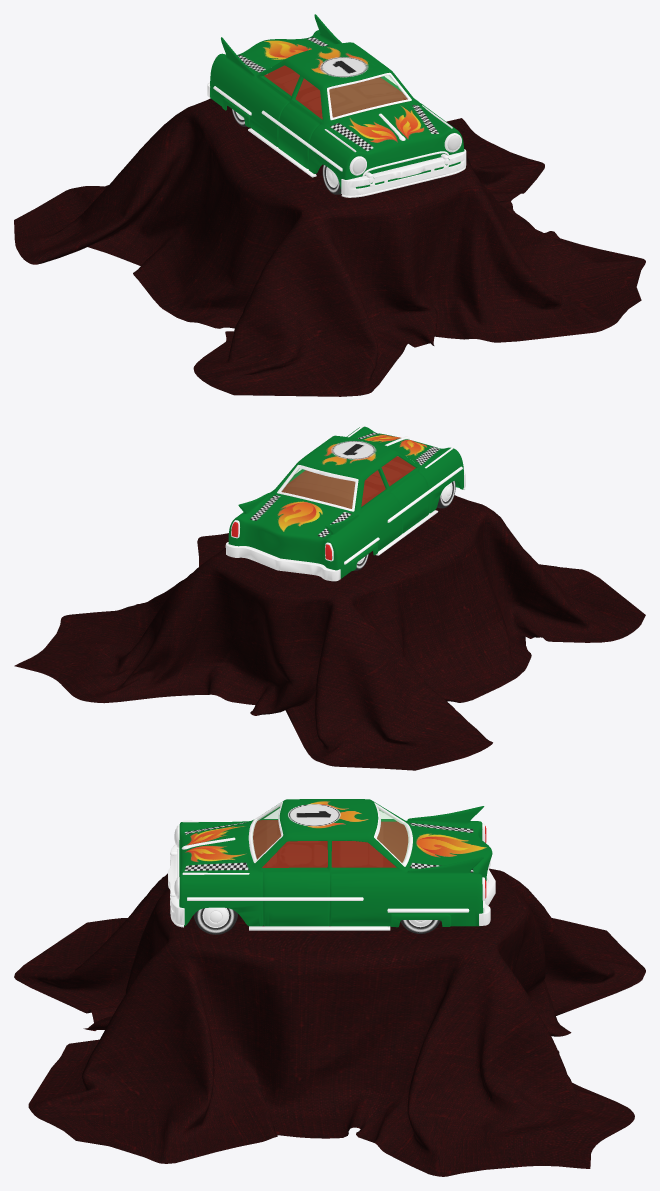
The model's file is ToyCar.glb.
The picture shows the model from 3 angles, top to bottom: view 1: azimuth 30°, elevation 25°; view 2: azimuth 150°, elevation 25°; view 3: azimuth 270°, elevation 25°; orthographic projection. The views are drawn at different scales.
Parts seen in each view (by area): view 1: Fabric, ToyCar, Glass; view 2: Fabric, ToyCar, Glass; view 3: Fabric, ToyCar, Glass.
Part boxes in pixels (box(x1,y1,x2,y2)): Fabric: box(14, 98, 645, 396); ToyCar: box(207, 14, 466, 197); Glass: box(329, 75, 407, 116); Fabric: box(14, 495, 645, 770); ToyCar: box(225, 425, 465, 581); Glass: box(282, 468, 354, 508); Fabric: box(14, 868, 645, 1176); ToyCar: box(168, 799, 495, 934); Glass: box(252, 806, 409, 862).
Size of the model in its own units: 0.0734 by 0.0288 by 0.074.
3 materials, 2 textured.
